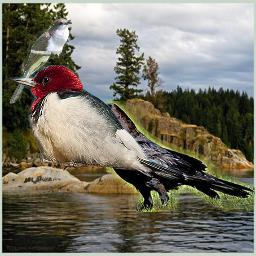Crow: (75, 101, 255, 212)
Cuckoo: (9, 18, 72, 104)
Woodpecker: (9, 65, 181, 175)
